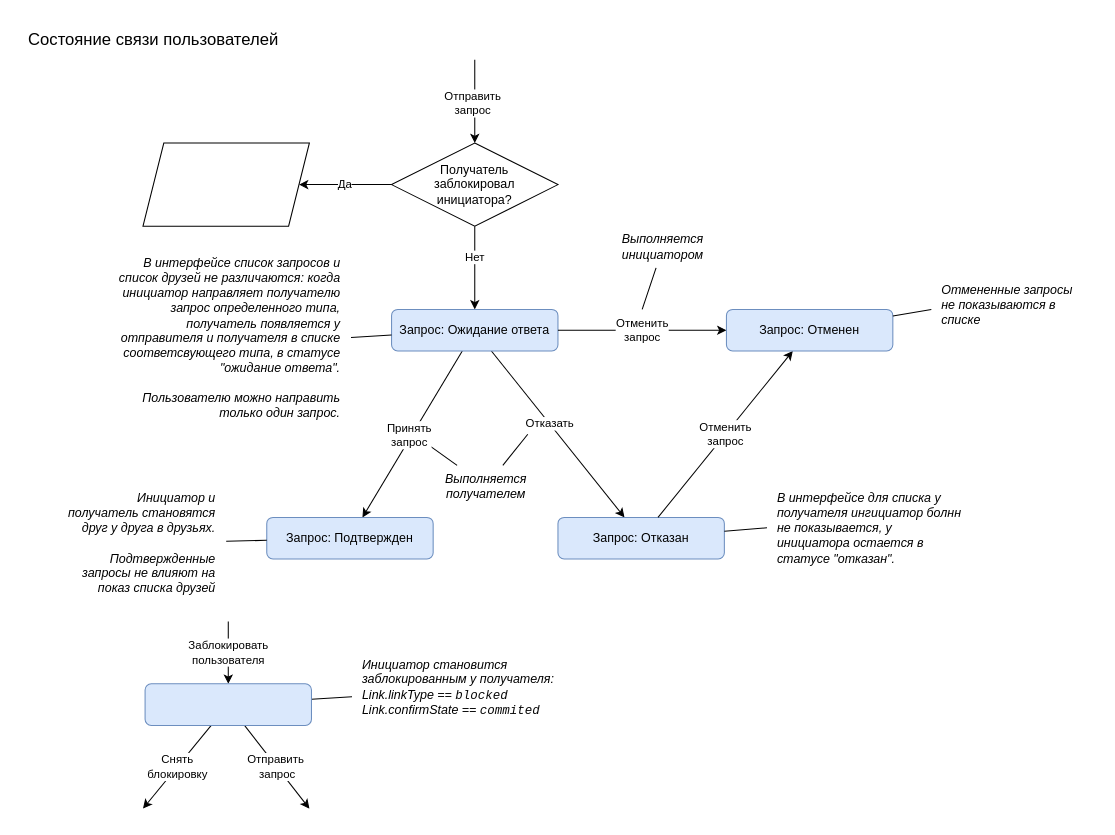
The diagram is 1115 pixels wide and 835 high, and some of its shapes have lost their labels. Here are the shapes that lost their labels. From the top down, the box of each, then its label:
(142, 142, 309, 226): Сообщение о невозможности отправить запрос
(144, 683, 311, 725): Запрос: Заблокирован
